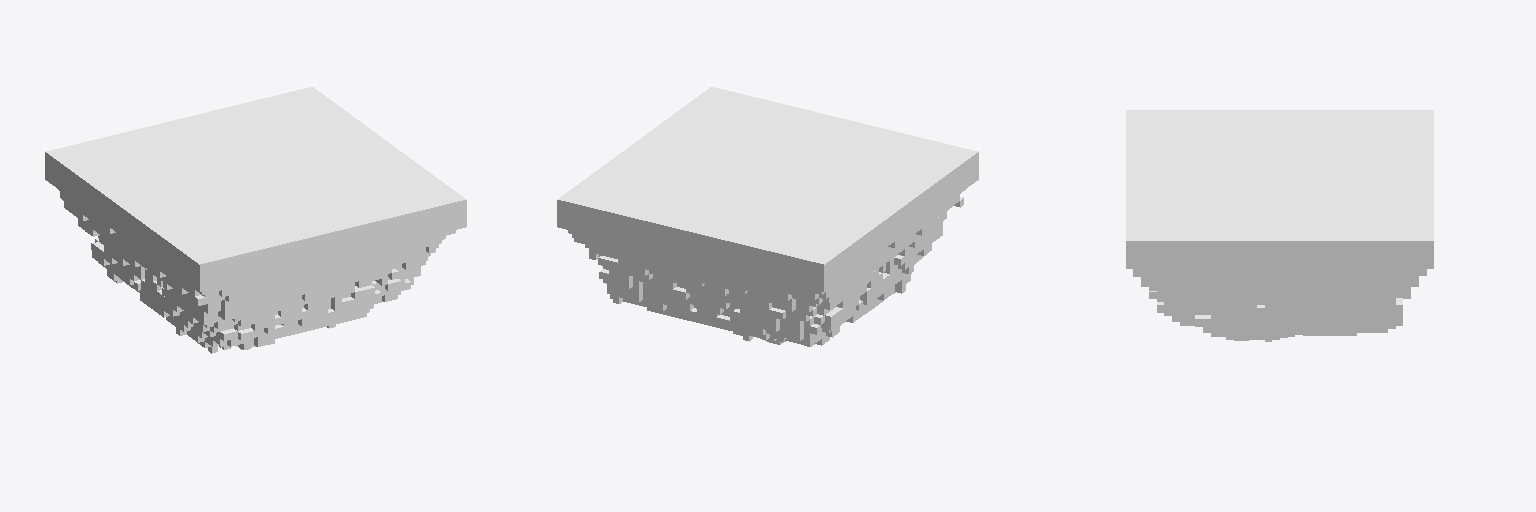
The model's file is ice_v2.obj.
3 renders of one model, left to right at view 1: azimuth 30°, elevation 25°; view 2: azimuth 150°, elevation 25°; view 3: azimuth 270°, elevation 25°, orthographic.
Parts seen in each view (by area): view 1: object 1; view 2: object 1; view 3: object 1.
Boxes of the visible parts, <box> form: object 1: <box>45,87,466,353</box>; object 1: <box>557,87,978,346</box>; object 1: <box>1126,110,1433,341</box>.
Size of the model in its own units: 4 by 2.3 by 4.